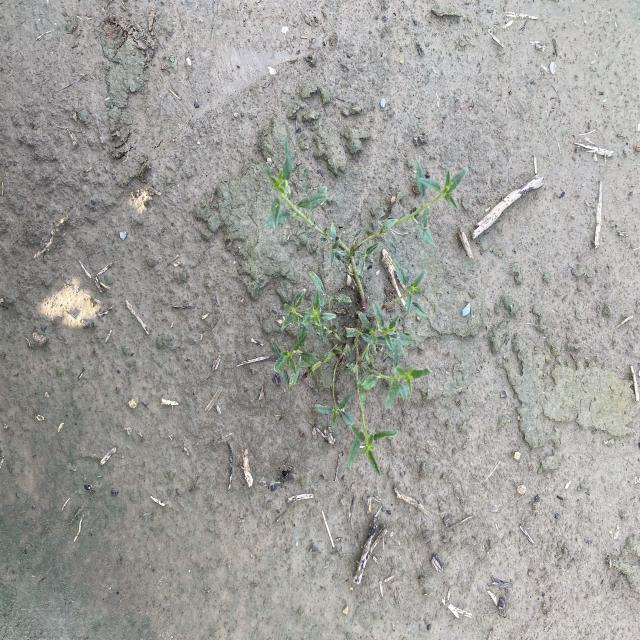Waterhemp: (263, 138, 471, 480)
